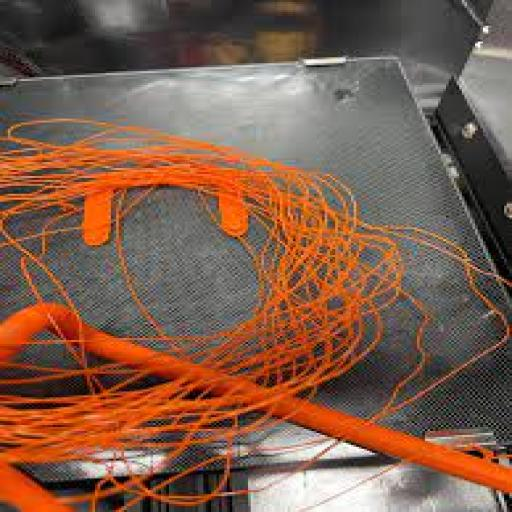spaghetti: (10, 117, 382, 473)
